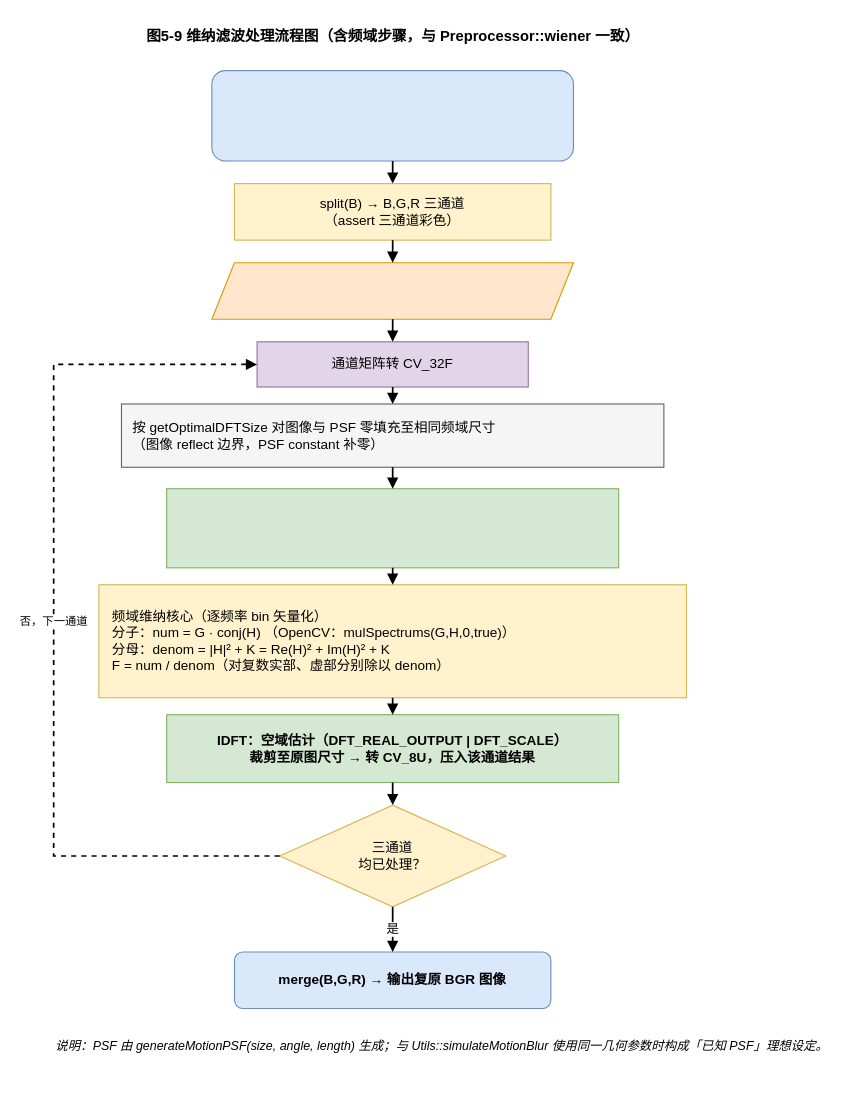
This 848x1099 diagram has some shape labels left out. Each missing label, with the centre of its shape:
"DFT：G = DFT(填充后通道) H = DFT(填充后 PSF) （输出为双通道复数 CV_32FC2）" goes at point 392,528.
"对每一通道循环（以下步骤各执行一次）" goes at point 392,290.
"开始：运动模糊图 B（BGR，8U） 已知 PSF 核 h（与退化一致，已归一化） 维纳常数 K（如 0.01）" goes at point 392,115.
